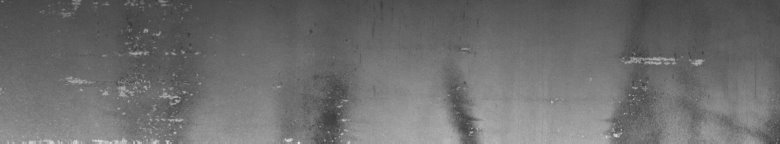hc: (601, 47, 776, 136)
